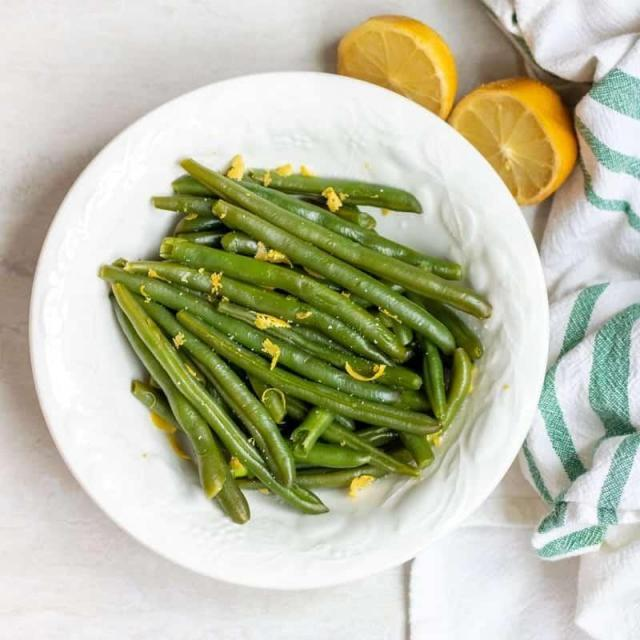Beans: (99, 148, 487, 531)
